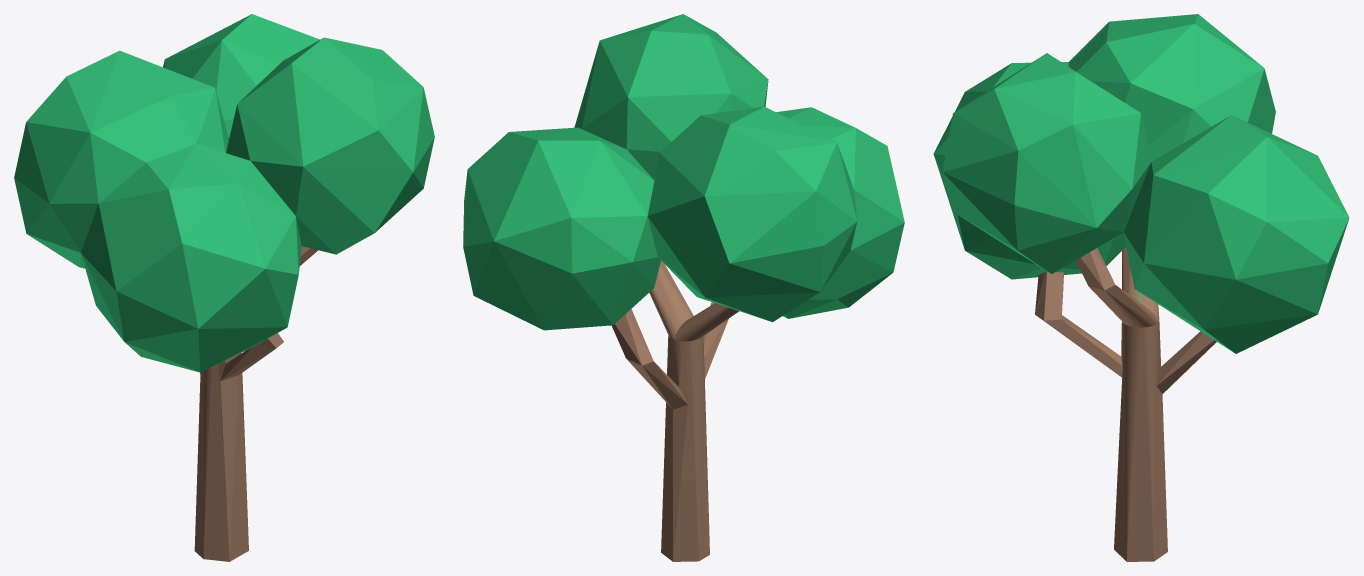
The model's file is tree5.fbx.
3 renders of one model, left to right at view 1: azimuth 30°, elevation 25°; view 2: azimuth 150°, elevation 25°; view 3: azimuth 270°, elevation 25°, orthographic. The views are drawn at different scales.
Parts seen in each view (by area): view 1: treetype5; view 2: treetype5; view 3: treetype5.
Part boxes in pixels (x1=…): treetype5: x1=14, y1=14, x2=434, y2=561; treetype5: x1=463, y1=14, x2=904, y2=561; treetype5: x1=933, y1=14, x2=1349, y2=561.
Bounding box in the file's own units: 150 × 203 × 149.
